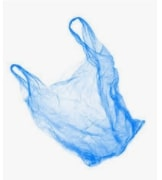kantong: (9, 16, 146, 168)
